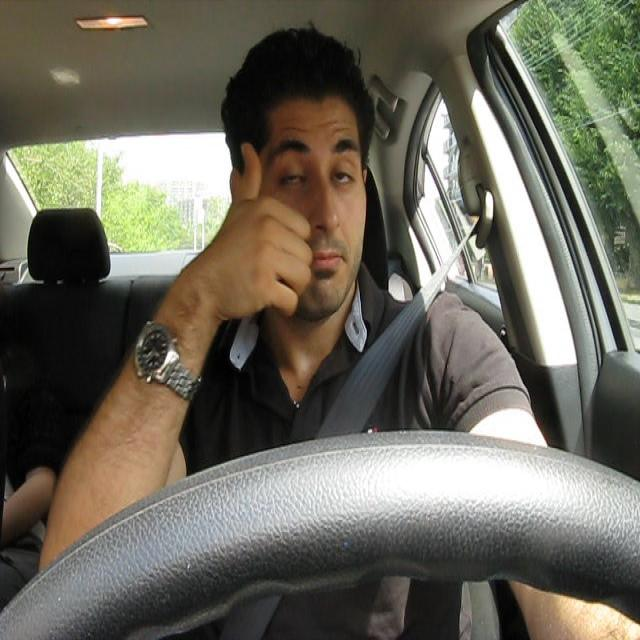Eyeclosed: (280, 156, 304, 198), (332, 160, 354, 193)
